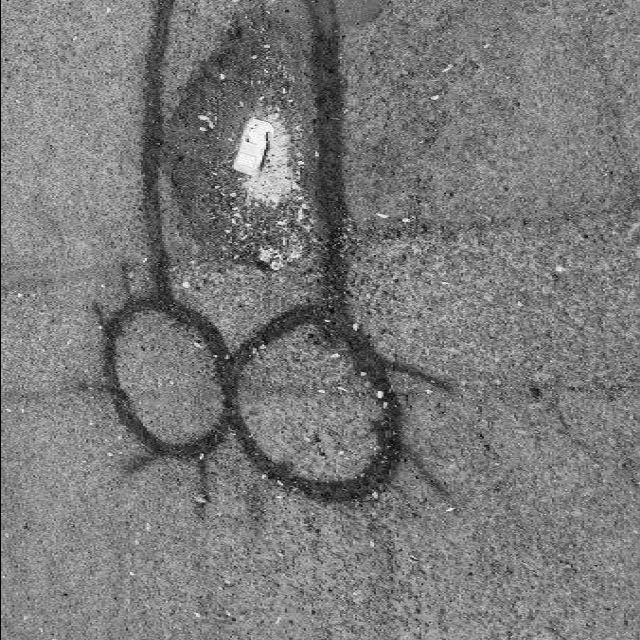jalan retak: (350, 206, 638, 260), (409, 381, 629, 416), (5, 252, 140, 304), (240, 381, 364, 409), (0, 380, 123, 408)
lubang: (157, 16, 326, 275)
